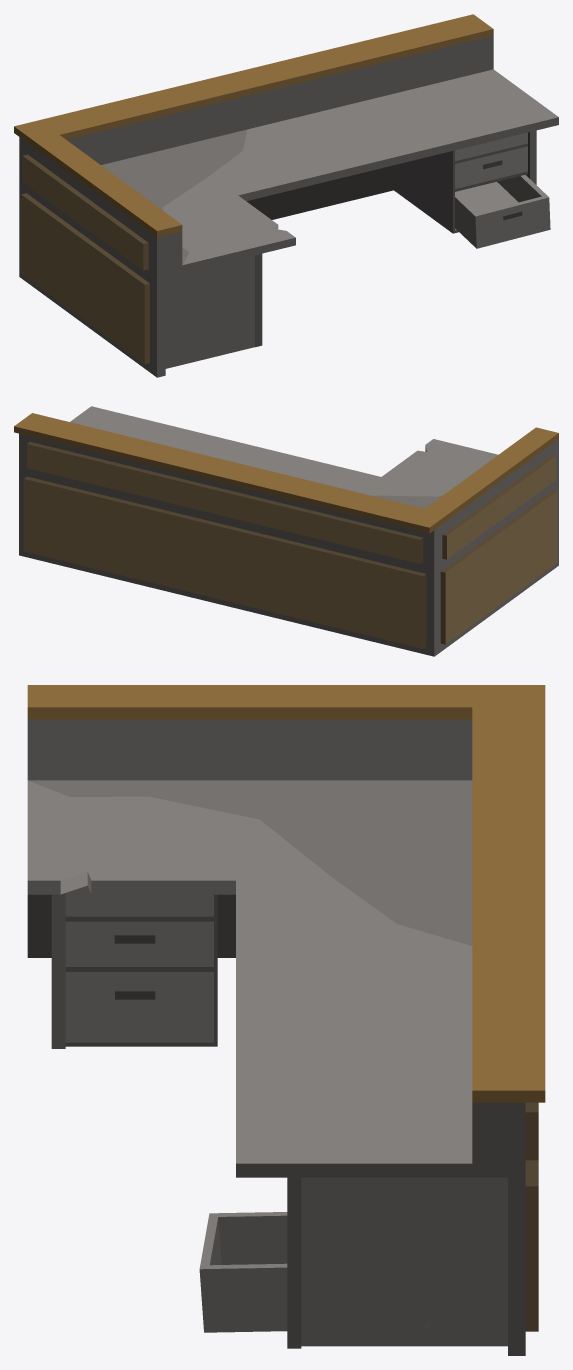
The model's file is AI_Prop_Desk_Reception.fbx.
3 renders of one model, top to bottom at view 1: azimuth 30°, elevation 25°; view 2: azimuth 150°, elevation 25°; view 3: azimuth 270°, elevation 25°, orthographic. The views are drawn at different scales.
Visible parts, largest first — view 1: AI_Prop_Desk_Reception; view 2: AI_Prop_Desk_Reception; view 3: AI_Prop_Desk_Reception.
Part boxes in pixels (<box>): AI_Prop_Desk_Reception: <box>14,14,558,377</box>; AI_Prop_Desk_Reception: <box>14,406,558,656</box>; AI_Prop_Desk_Reception: <box>27,685,545,1355</box>.
Size of the model in its own units: 6 by 1.81 by 3.2.
